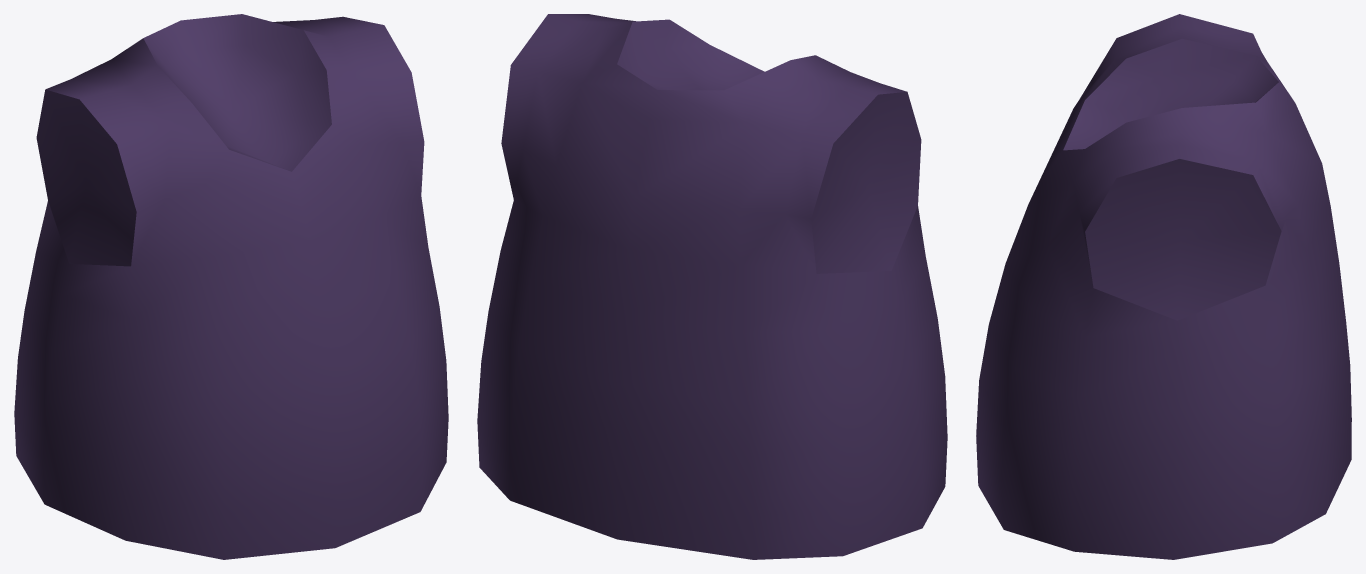
File: Top_65.fbx
3 views of the same model, side by side, from view 1: azimuth 30°, elevation 25°; view 2: azimuth 150°, elevation 25°; view 3: azimuth 270°, elevation 25° (orthographic). The views are drawn at different scales.
Parts seen in each view (by area): view 1: Top_65; view 2: Top_65; view 3: Top_65.
Boxes of the visible parts, bbox=[...] form: Top_65: bbox=[14, 14, 448, 559]; Top_65: bbox=[477, 14, 947, 559]; Top_65: bbox=[976, 14, 1351, 559].
Bounding box in the file's own units: 41 × 43.35 × 35.79.
